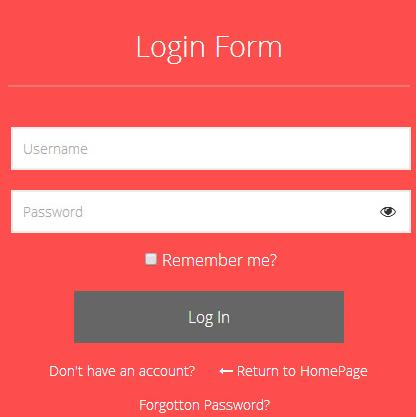button: (73, 290, 346, 344)
checkbox: (143, 251, 160, 266)
checkbox_with_label: (141, 249, 278, 269)
field: (9, 126, 413, 172), (10, 189, 414, 235)
